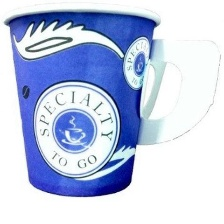paper_cup: (0, 0, 224, 202)
